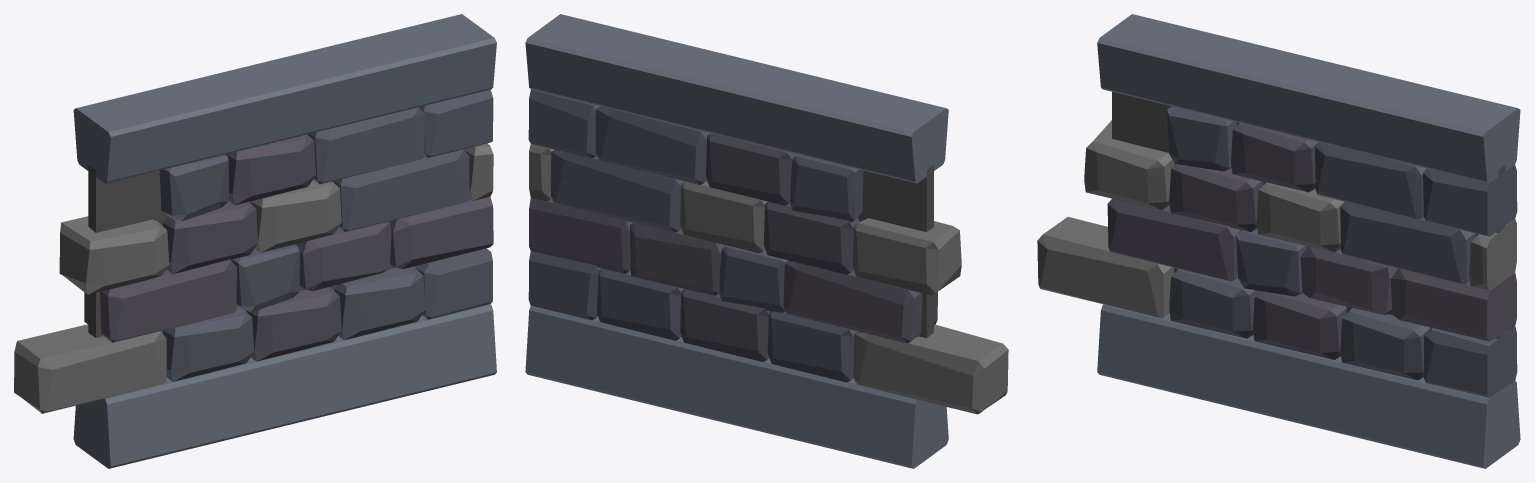
File: Brick_Wall_Left.fbx
The picture shows the model from 3 angles, left to right: view 1: azimuth 30°, elevation 25°; view 2: azimuth 150°, elevation 25°; view 3: azimuth 330°, elevation 25°; orthographic projection.
Visible parts, largest first — view 1: Muro_Ladrillo_Izq; view 2: Muro_Ladrillo_Izq; view 3: Muro_Ladrillo_Izq.
Part boxes in pixels (box(x1,y1,x2,y2)): Muro_Ladrillo_Izq: box(14, 14, 496, 468); Muro_Ladrillo_Izq: box(525, 14, 1008, 468); Muro_Ladrillo_Izq: box(1037, 14, 1520, 468).
Size of the model in its own units: 703 by 500 by 100.
